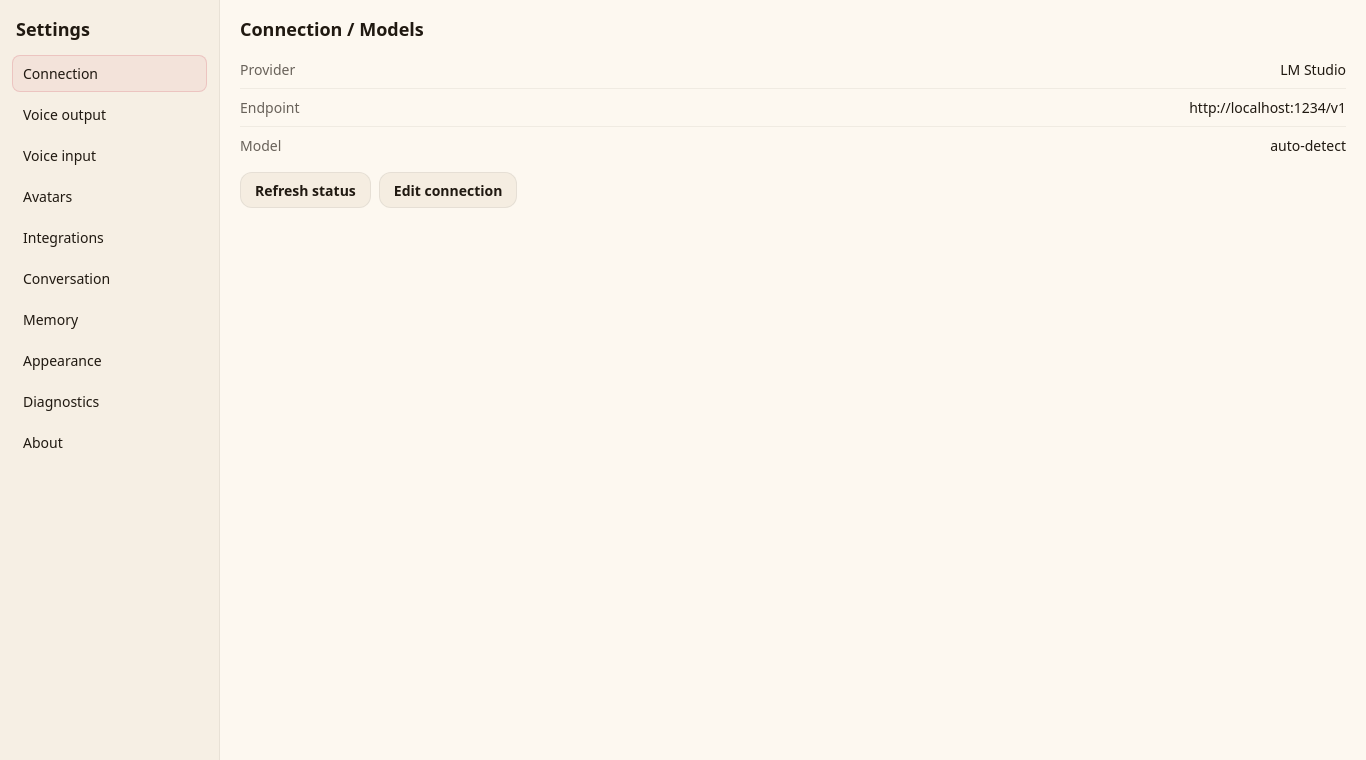
Scenario: Settings TTS section › blocks app-reserved push-to-talk shortcuts in Settings
The width and height of the screenshot is (1366, 760).
Click the button "Voice input". click: (110, 156)
box: [12, 137, 207, 174]
(page scrolled)
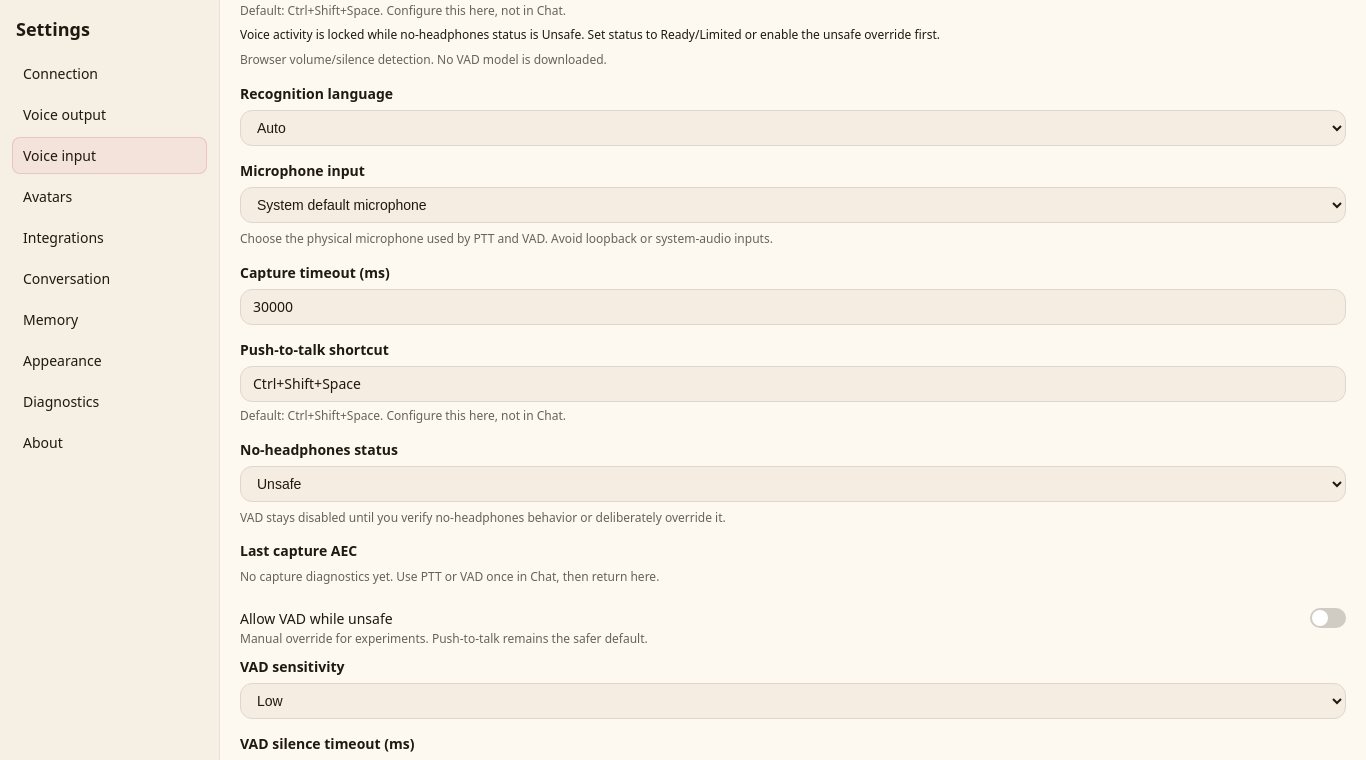
Type "Ctrl+R" into the field labelled "Push-to-talk shortcut". click: (793, 384)
box: [240, 366, 1346, 402]
(page scrolled)
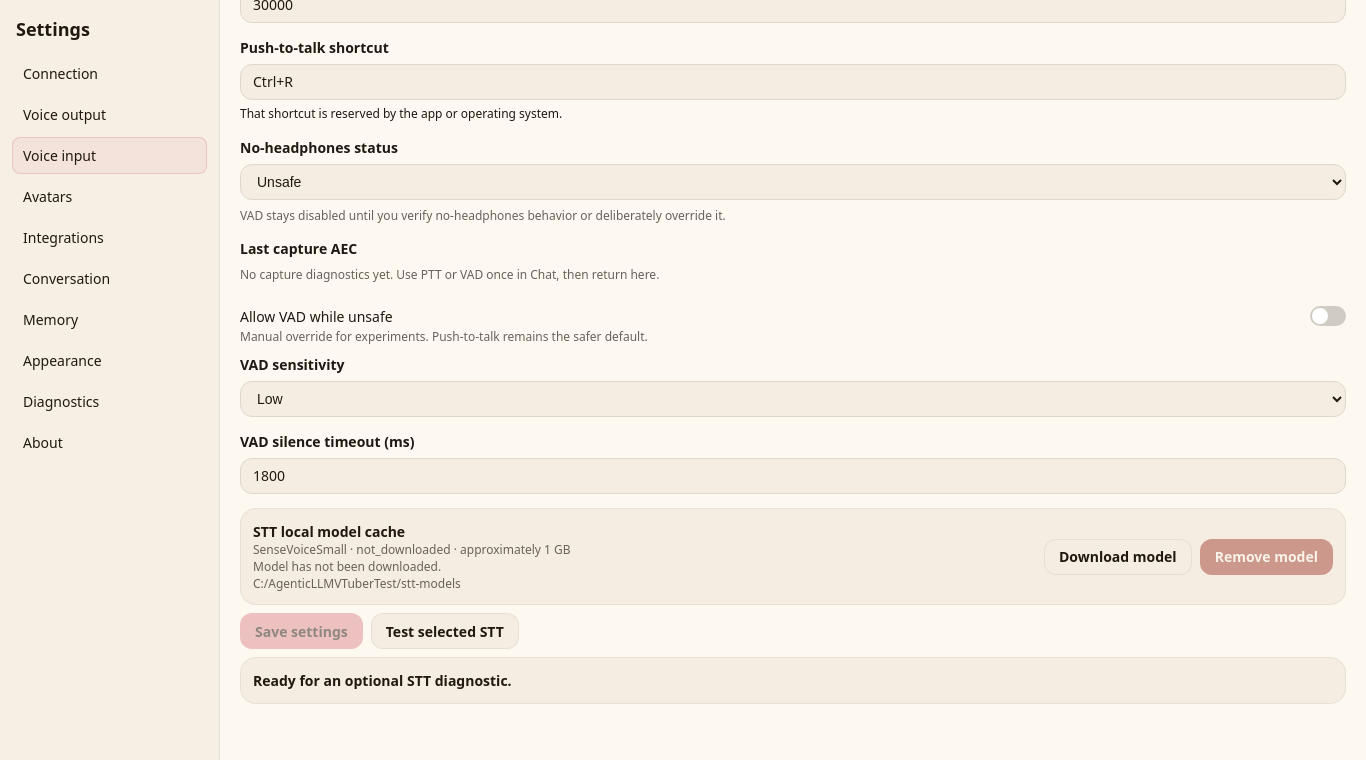
Expected: the text "That shortcut is reserved by the app or operating system." is shown, [240, 105, 562, 122]
Expected: the button "Save settings" is disabled, [240, 613, 363, 649]
